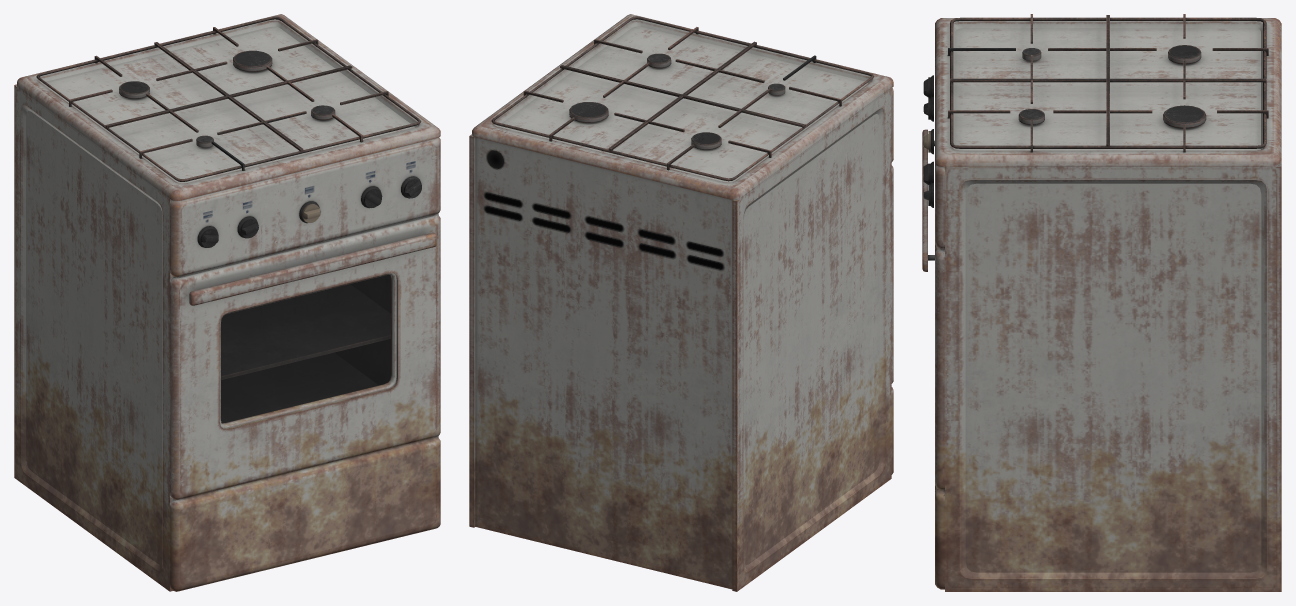
Rendered from fornello.glb.
3 views of the same model, side by side, from view 1: azimuth 30°, elevation 25°; view 2: azimuth 150°, elevation 25°; view 3: azimuth 270°, elevation 25° (orthographic). The views are drawn at different scales.
Visible parts, largest first — view 1: GasStove, Glass; view 2: GasStove; view 3: GasStove.
Part boxes in pixels (x1=…): GasStove: x1=14, y1=14, x2=440, y2=591; Glass: x1=221, y1=275, x2=390, y2=423; GasStove: x1=469, y1=14, x2=893, y2=591; GasStove: x1=922, y1=14, x2=1281, y2=591.
Size of the model in its own units: 0.56 by 0.8118 by 0.5985.
2 materials, 2 textured.
